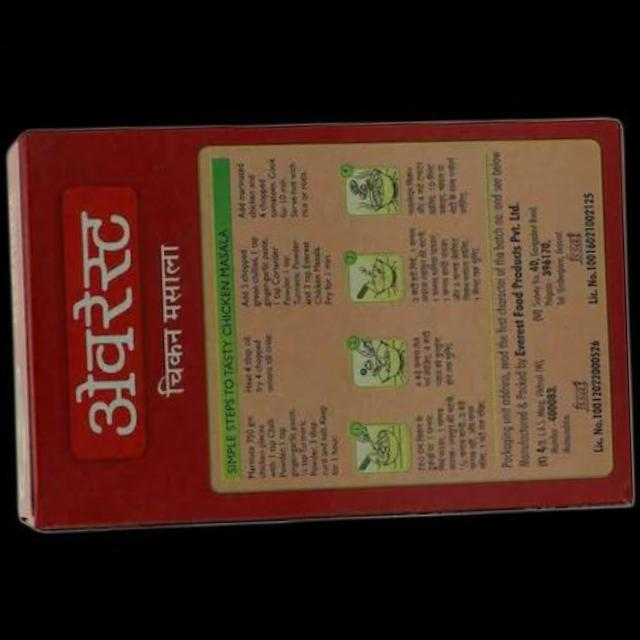Everest Chicken Masala 100 g: (1, 111, 640, 543)
